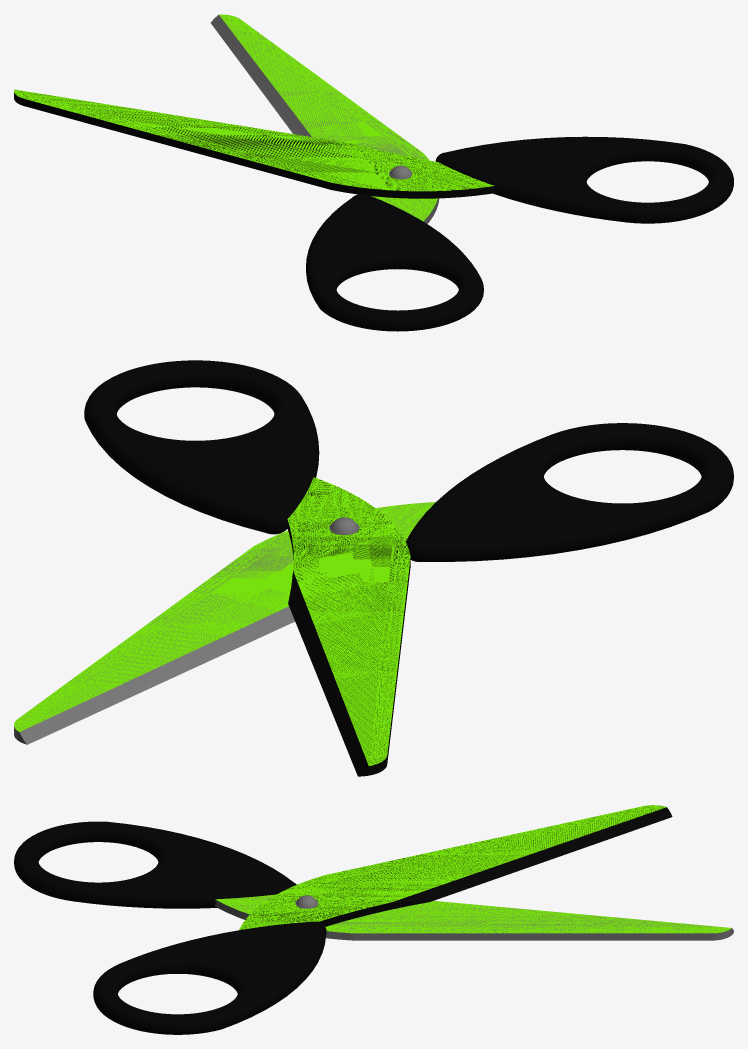
File: scissors_02_origin_gt_2.dae
3 renders of one model, top to bottom at view 1: azimuth 30°, elevation 25°; view 2: azimuth 150°, elevation 25°; view 3: azimuth 270°, elevation 25°, orthographic. The views are drawn at different scales.
Visible parts, largest first — view 1: Component_17 (×4), Component_16 (×4); view 2: Component_17 (×4), Component_16 (×4); view 3: Component_17 (×4), Component_16 (×4).
Part boxes in pixels (x1,y1,x2,y2): Component_17 (×4): (306, 136, 733, 331); Component_16 (×4): (14, 14, 494, 223); Component_17 (×4): (84, 360, 733, 561); Component_16 (×4): (14, 477, 435, 776); Component_17 (×4): (14, 821, 326, 1034); Component_16 (×4): (215, 805, 733, 940).
Bounding box in the file's own units: 7.49 × 10.31 × 0.4046.
